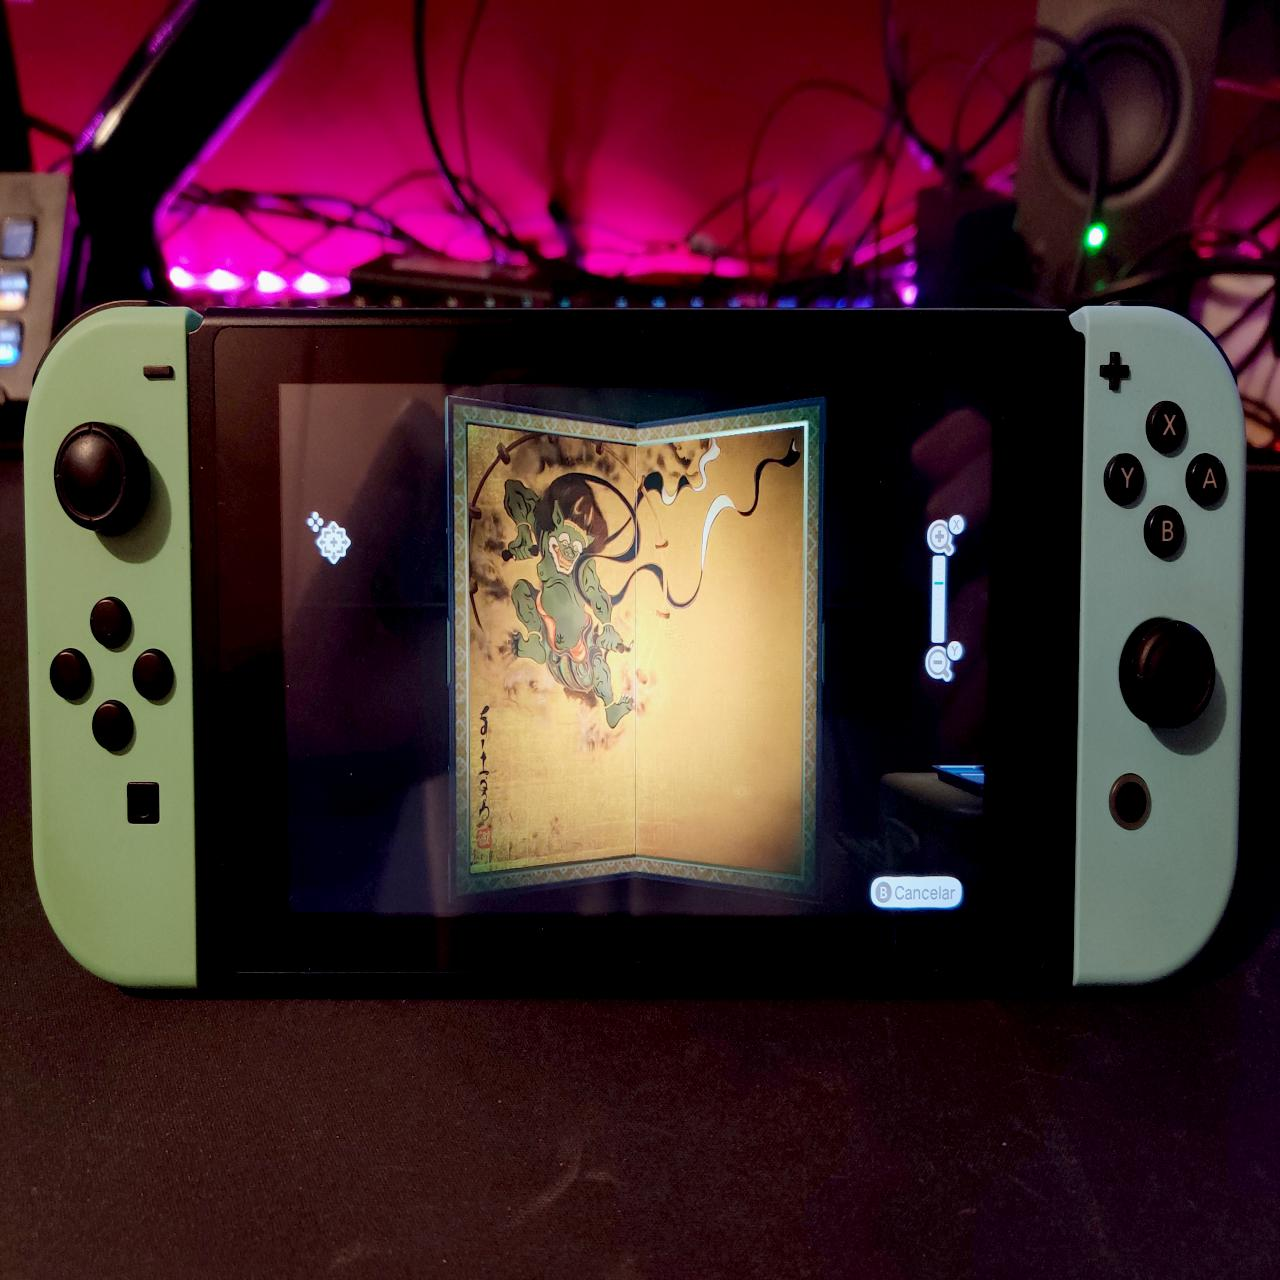RaijinFake: (445, 397, 822, 908)
